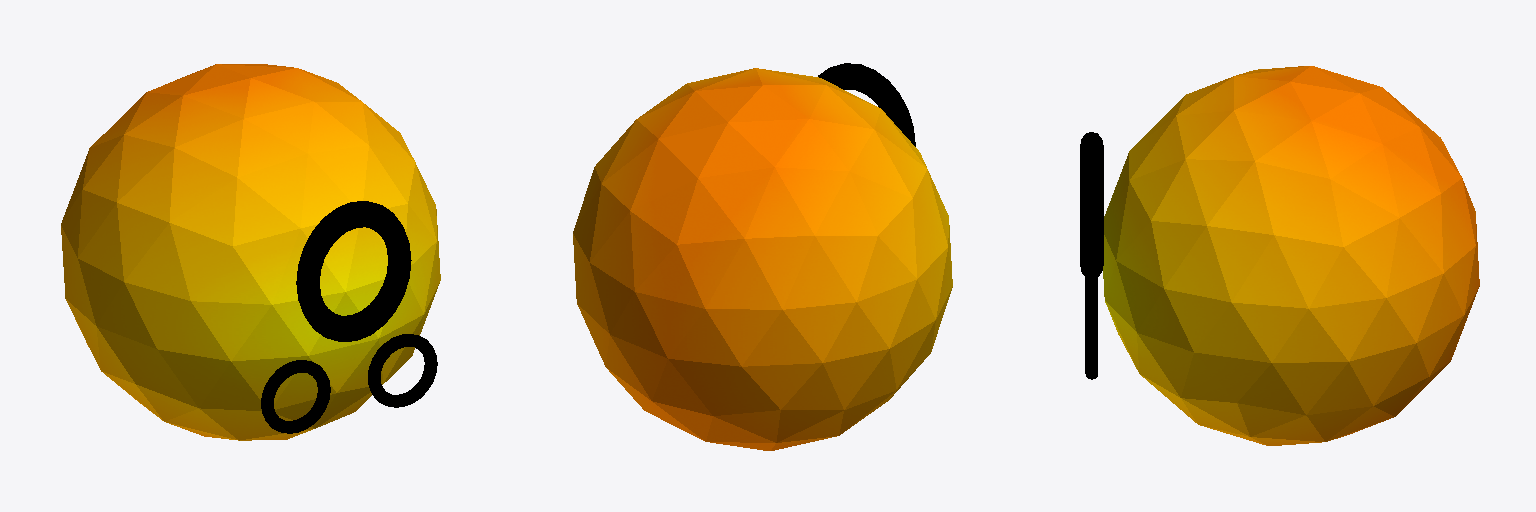
3 renders of one model, left to right at view 1: azimuth 30°, elevation 25°; view 2: azimuth 150°, elevation 25°; view 3: azimuth 270°, elevation 25°, orthographic.
Visible parts, largest first — view 1: GeoSphere006, Torus014, Torus012, Torus013; view 2: GeoSphere006, Torus014; view 3: GeoSphere006, Torus014, Torus012.
Boxes of the visible parts, x1=… form: GeoSphere006: x1=61, y1=64, x2=440, y2=440; Torus014: x1=296, y1=201, x2=411, y2=341; Torus012: x1=368, y1=334, x2=437, y2=407; Torus013: x1=261, y1=360, x2=330, y2=433; GeoSphere006: x1=573, y1=68, x2=952, y2=450; Torus014: x1=818, y1=63, x2=915, y2=146; GeoSphere006: x1=1103, y1=66, x2=1479, y2=445; Torus014: x1=1080, y1=132, x2=1103, y2=278; Torus012: x1=1085, y1=301, x2=1097, y2=379.
Bounding box in the file's own units: 34.35 × 34.95 × 36.3.
2 materials, 1 textured.